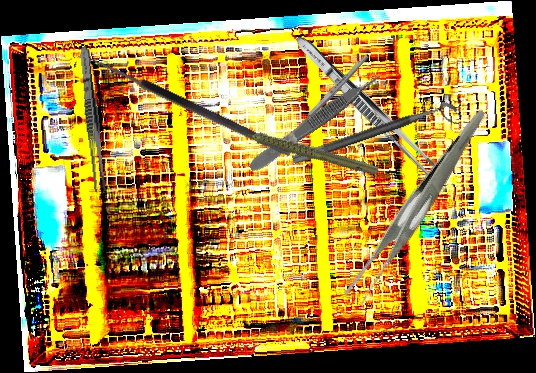Dressing Forceps: (304, 108, 533, 310), (290, 31, 447, 184), (76, 45, 109, 193)
Fixation Ring: (291, 98, 462, 180)
Handpiece: (231, 92, 381, 205)
Hook Surgical: (72, 49, 293, 168)
Surgical Spoon: (282, 53, 371, 143)
Tissue Forceps: (245, 69, 386, 176)
